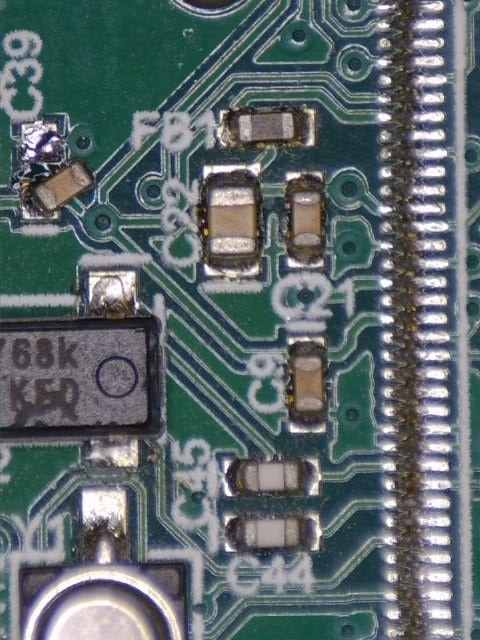pcb_defect: (20, 121, 96, 221)
